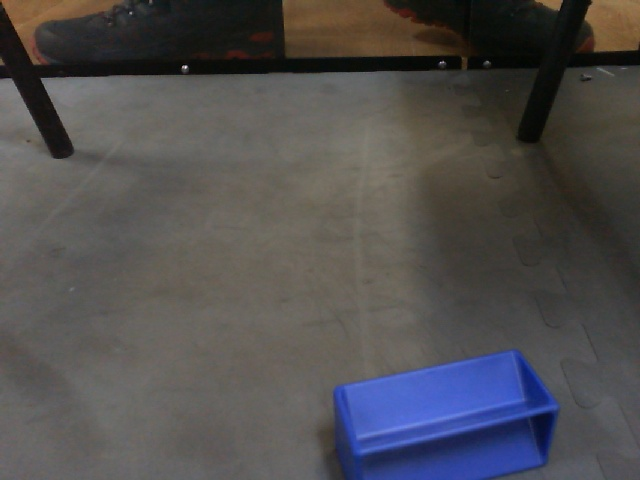BlueSample: (326, 344, 564, 480)
